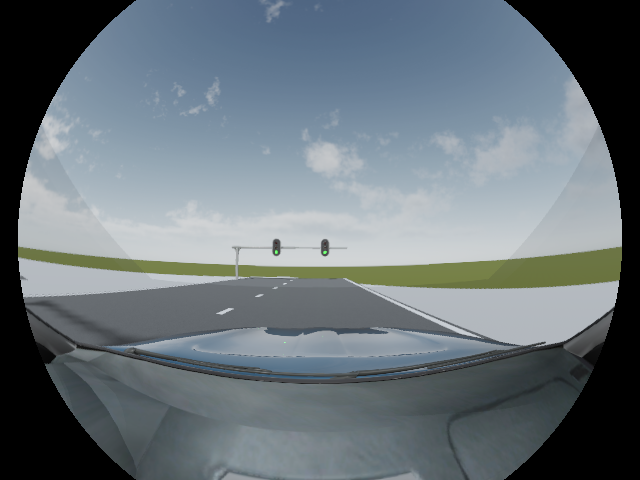Green Light: (272, 238, 282, 258), (322, 238, 329, 256)
